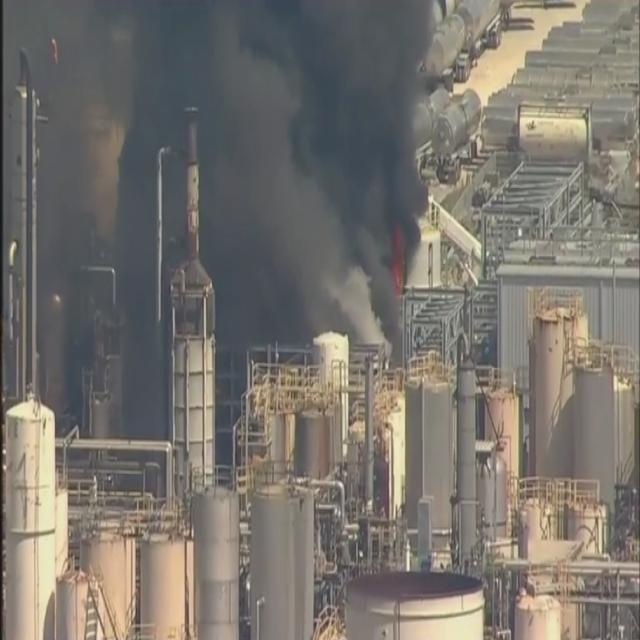Fire: (306, 608, 346, 640), (391, 218, 408, 292)
Smoke: (160, 0, 385, 274)
